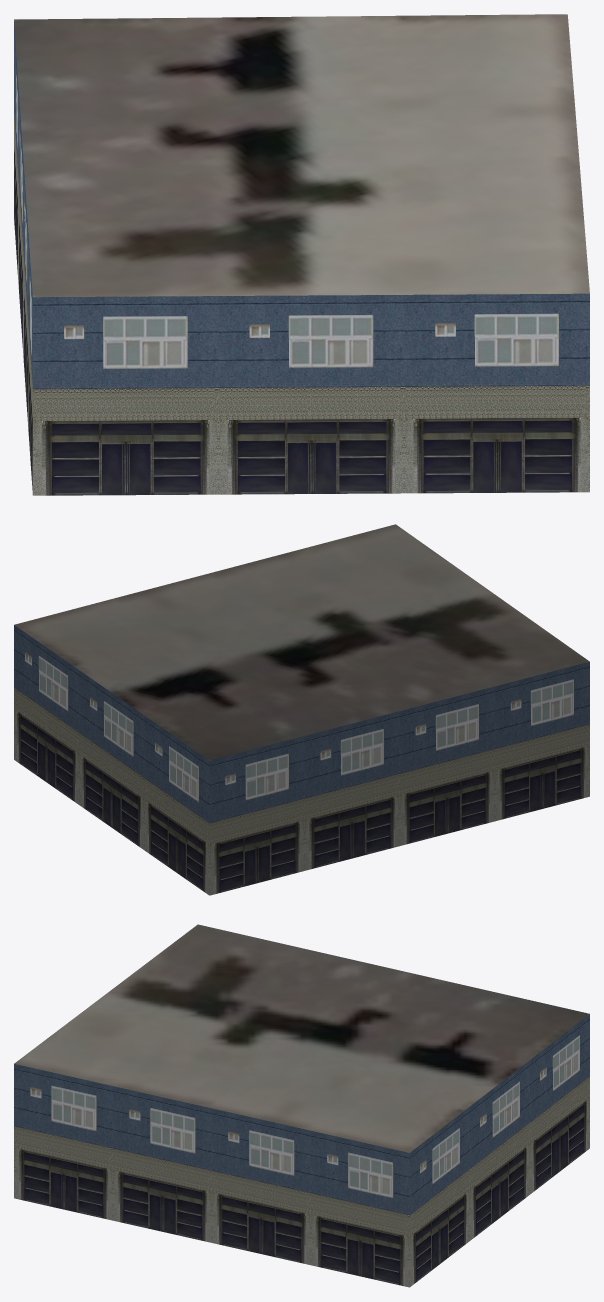
File: T_1T1QW4NXWD.dae
3 views of the same model, one above another, from view 1: azimuth 30°, elevation 25°; view 2: azimuth 150°, elevation 25°; view 3: azimuth 270°, elevation 25° (orthographic). The views are drawn at different scales.
Parts seen in each view (by area): view 1: SketchUp (×5); view 2: SketchUp (×5); view 3: SketchUp (×5).
Boxes of the visible parts, x1,y1,x2,y2 form: SketchUp (×5): (14, 14, 589, 495); SketchUp (×5): (14, 524, 589, 895); SketchUp (×5): (14, 924, 589, 1287).
Bounding box in the file's own units: 22.4 × 23.86 × 6.15.
Materials: 3 (3 with a texture image).
